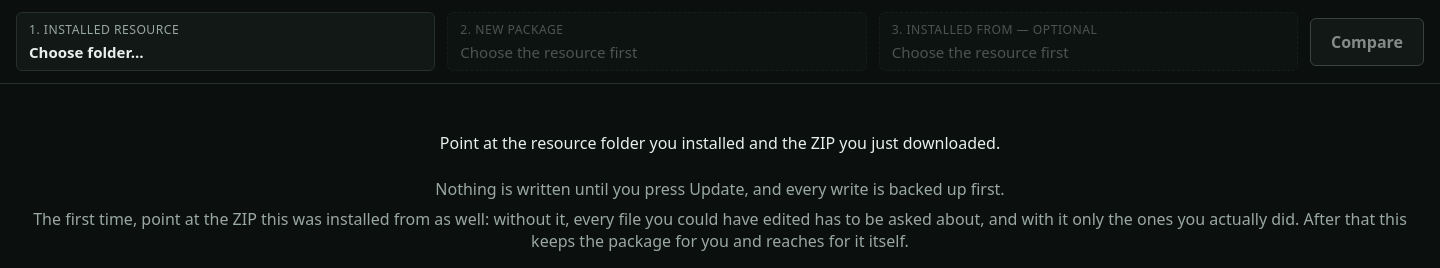
Test: the update screen › asks for a folder and a package before it will compare
Expected: the button "Compare" is disabled, [1310,18,1424,66]
Click the button "1. Installed resource Choose folder…" at {"x": 104, "y": 30}, box [16,12,435,71]
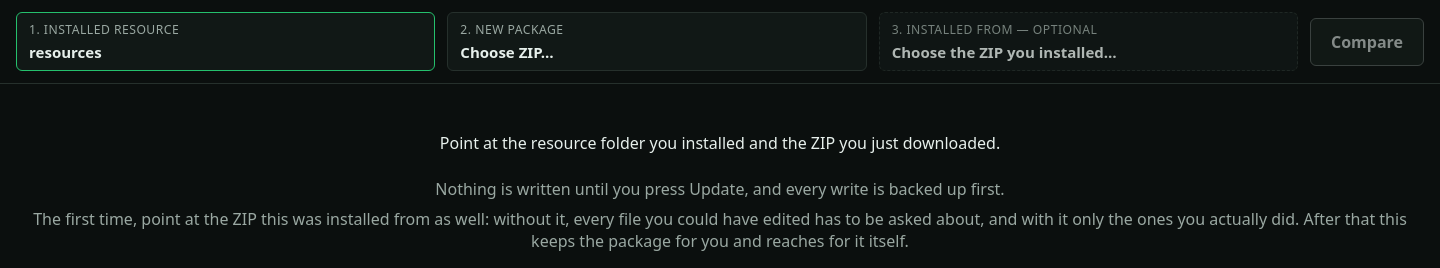
Expected: the button "Compare" is disabled, [1310,18,1424,66]
Click the button "2. New package Choose ZIP…" at {"x": 512, "y": 30}, box [447,12,867,71]
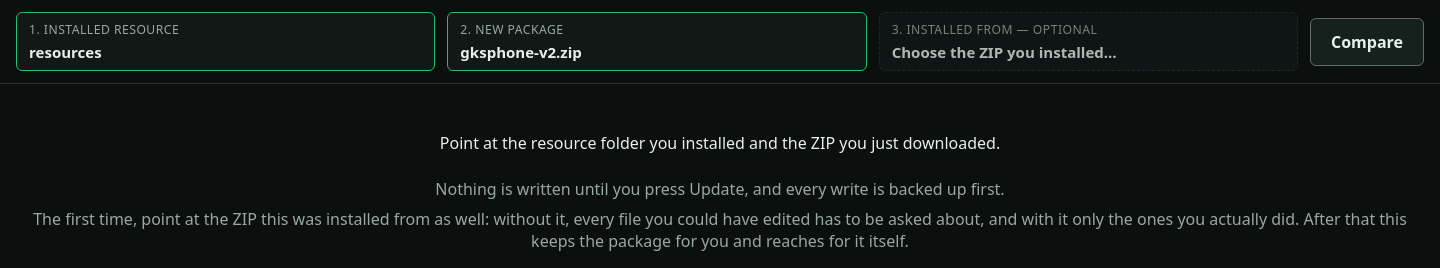
Expected: the button "Compare" is enabled, [1310,18,1424,66]
